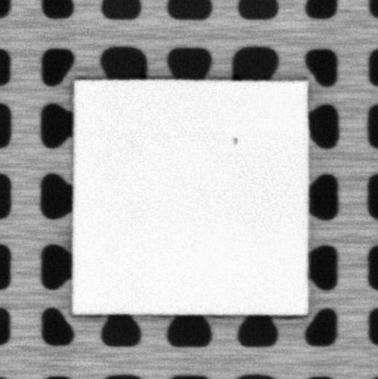DIE_INK: (230, 134, 241, 145)
